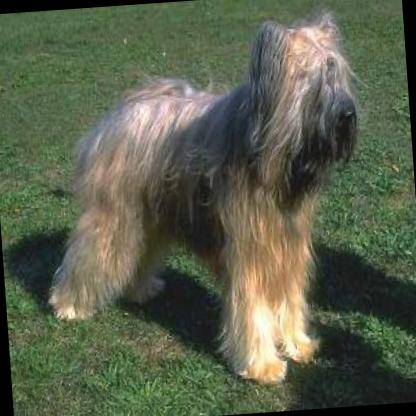briard: (20, 2, 388, 406)
